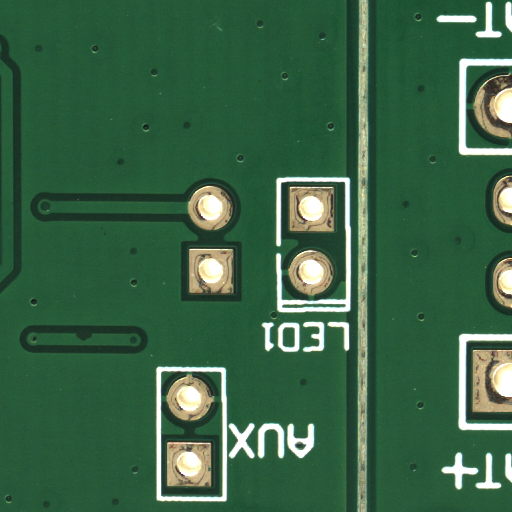Mouse_bite: (85, 336, 100, 347)
